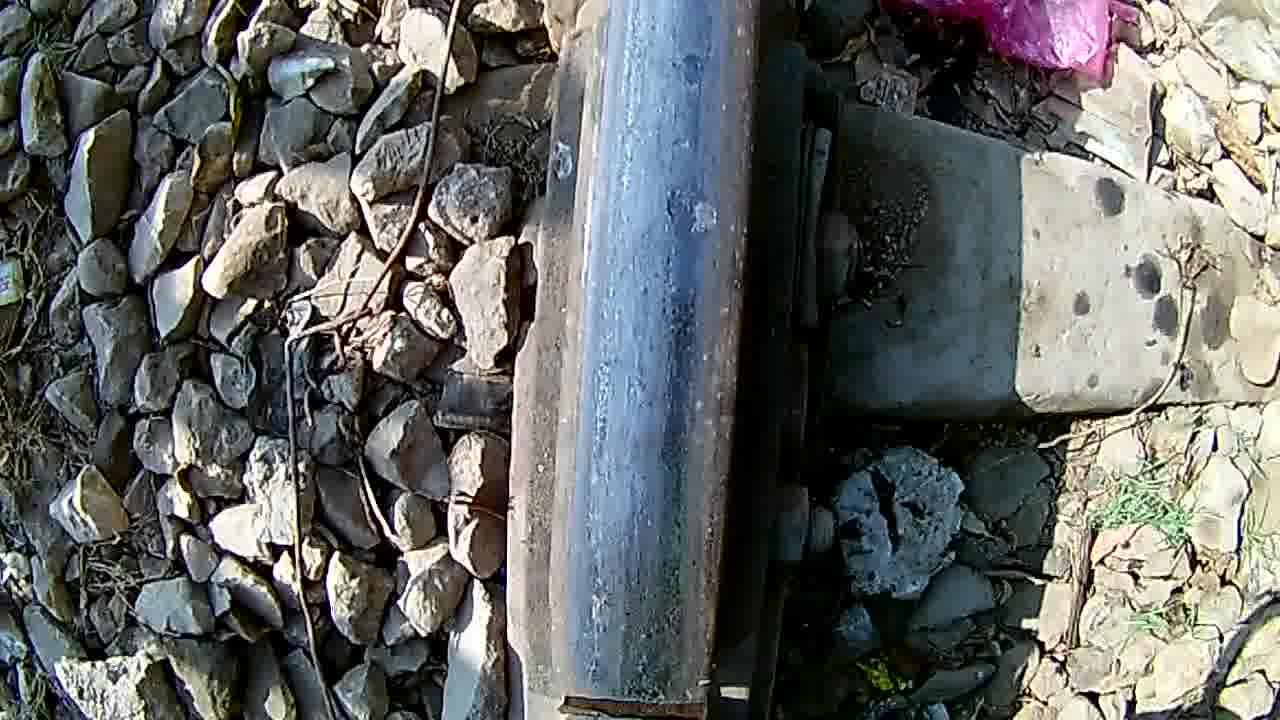crack: (573, 3, 749, 690)
